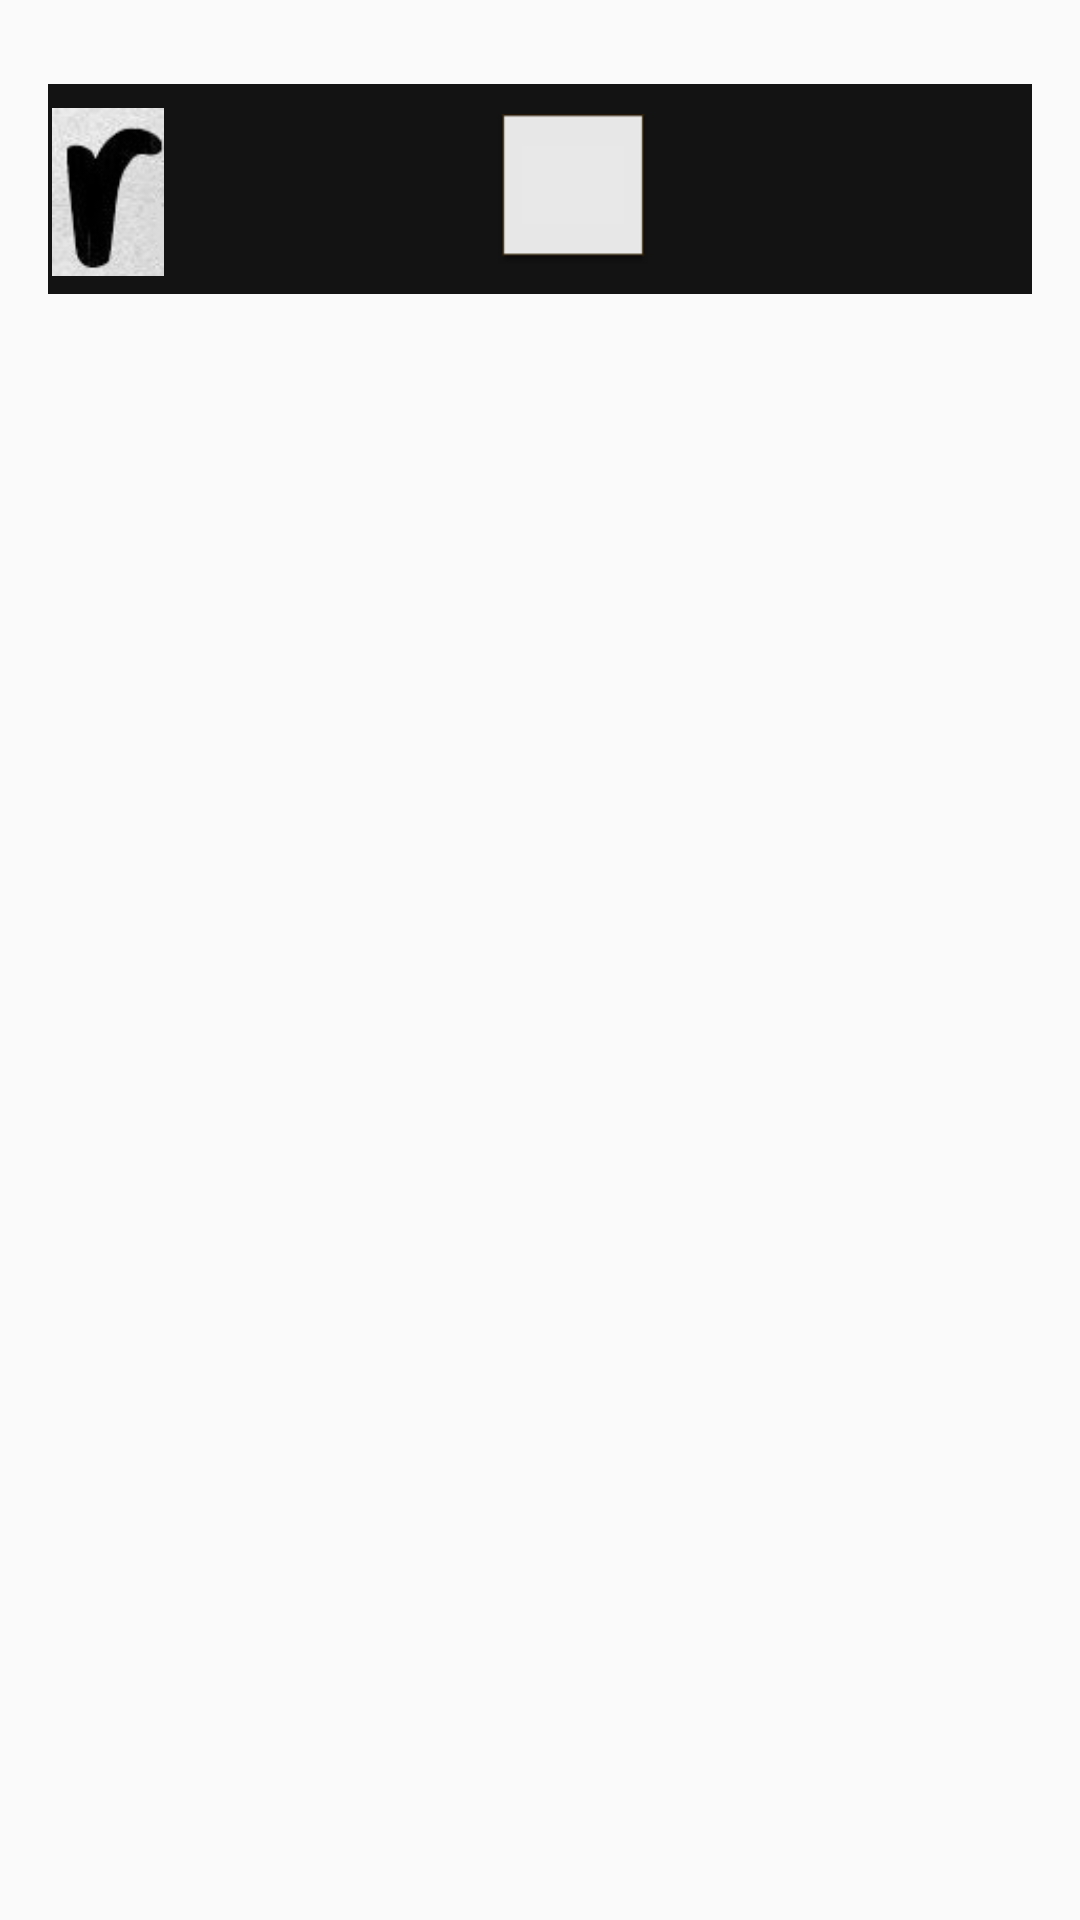

Where icons sit on this 1080 x 1920 app screen, as (x1, y1, x2, y2):
char: (52, 108, 164, 276)
